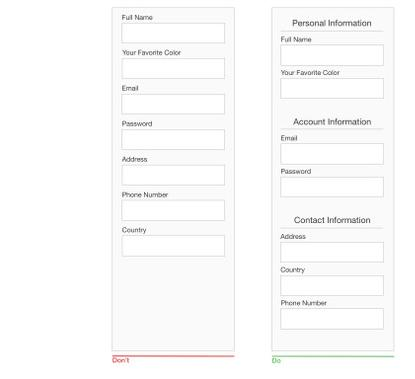field: (278, 305, 386, 333), (119, 20, 226, 46), (119, 233, 226, 259), (277, 141, 385, 166), (278, 273, 386, 298), (278, 42, 385, 67), (121, 56, 227, 81), (278, 76, 384, 101), (119, 198, 227, 222), (277, 175, 385, 199), (119, 163, 226, 187), (278, 240, 385, 264), (119, 93, 227, 116), (119, 128, 226, 151)
field_with_label: (275, 299, 387, 334), (274, 134, 388, 168), (118, 13, 228, 48), (117, 226, 227, 261), (118, 84, 230, 118), (276, 35, 387, 69), (119, 49, 228, 83), (118, 119, 227, 153), (275, 168, 387, 201), (276, 266, 388, 299), (117, 156, 228, 189), (276, 233, 386, 266), (276, 70, 385, 103), (117, 192, 228, 224)
